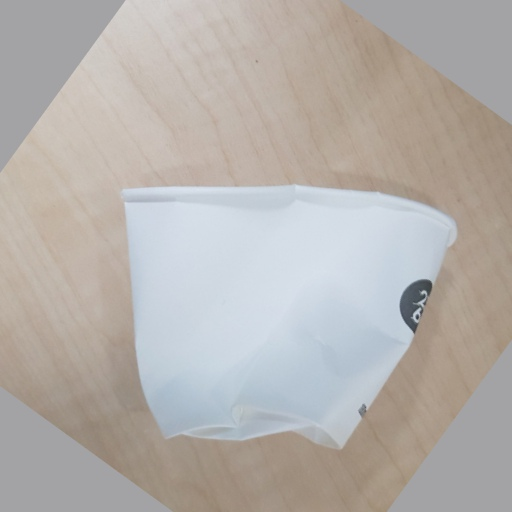Paper_1: (117, 179, 456, 453)
